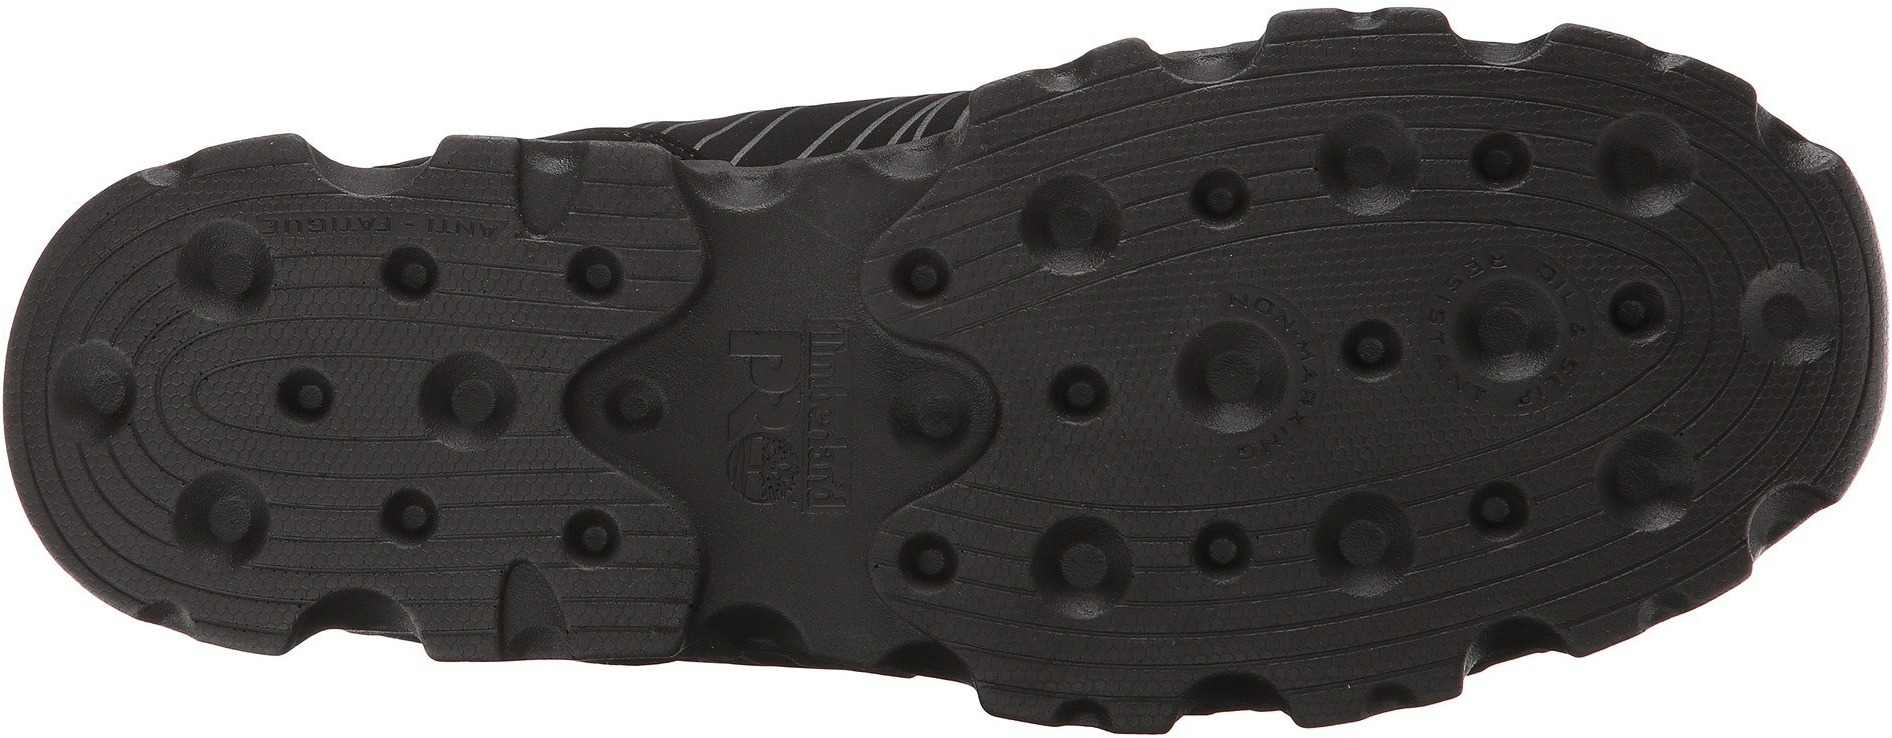circle: (1586, 102, 1715, 230), (1169, 312, 1297, 439), (1316, 101, 1419, 219), (1027, 166, 1121, 279), (1324, 480, 1412, 597), (1036, 516, 1134, 619), (177, 471, 271, 553), (183, 227, 275, 307), (1464, 458, 1536, 553), (54, 348, 135, 432), (1331, 307, 1411, 391), (1036, 363, 1125, 432), (425, 364, 519, 424), (1600, 276, 1672, 353), (1477, 115, 1538, 203), (899, 380, 971, 449), (605, 377, 673, 443), (1186, 514, 1246, 585), (1189, 164, 1250, 228), (385, 486, 440, 547), (567, 510, 621, 567), (278, 371, 334, 424), (882, 252, 950, 293), (568, 248, 621, 299), (389, 244, 436, 295), (900, 543, 962, 581)
exclude: (279, 601, 432, 686)
line: (132, 327, 271, 463)
other: (702, 215, 862, 310)
text: (711, 295, 857, 527), (271, 201, 512, 248)
